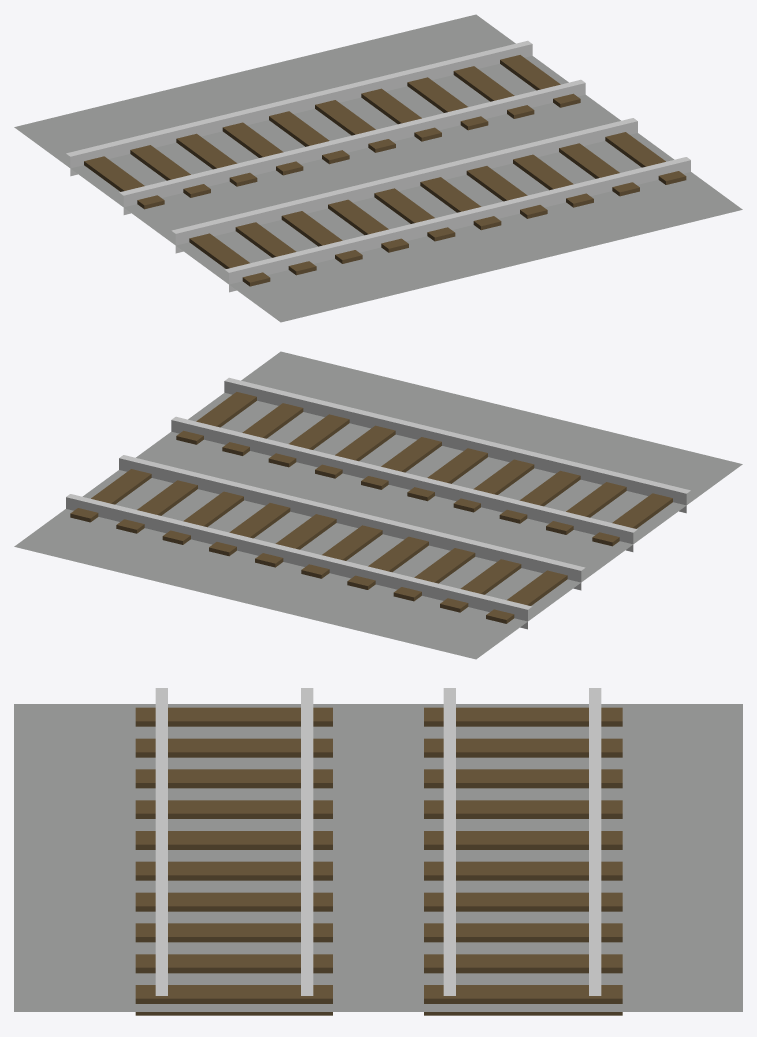
File: tile_railroad_1x1_002.glb
The picture shows the model from 3 angles, top to bottom: view 1: azimuth 30°, elevation 25°; view 2: azimuth 150°, elevation 25°; view 3: azimuth 270°, elevation 25°; orthographic projection. The views are drawn at different scales.
Parts seen in each view (by area): view 1: tile_railroad_1x1_002(Clone); view 2: tile_railroad_1x1_002(Clone); view 3: tile_railroad_1x1_002(Clone).
Boxes of the visible parts, x1,y1,x2,y2 form: tile_railroad_1x1_002(Clone): [14, 14, 742, 322]; tile_railroad_1x1_002(Clone): [14, 351, 742, 659]; tile_railroad_1x1_002(Clone): [14, 688, 742, 1015].
Bounding box in the file's own units: 8 × 0.3347 × 8.
1 material, 1 textured.
